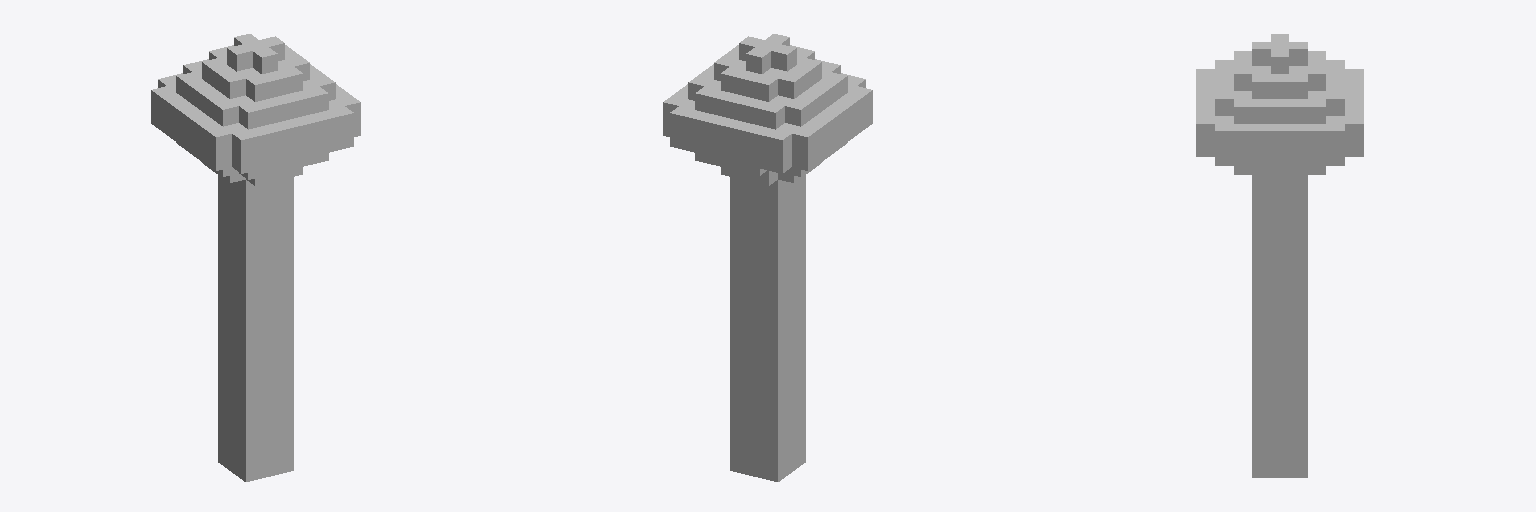
The model's file is obuch ogra.obj.
3 renders of one model, left to right at view 1: azimuth 30°, elevation 25°; view 2: azimuth 150°, elevation 25°; view 3: azimuth 270°, elevation 25°, orthographic.
Visible parts, largest first — view 1: object 1; view 2: object 1; view 3: object 1.
Boxes of the visible parts, box(x1,y1,x2,y2) form: object 1: box(151, 34, 360, 481); object 1: box(663, 34, 872, 481); object 1: box(1196, 34, 1363, 477).
Size of the model in its own units: 0.9 by 2.5 by 0.9.